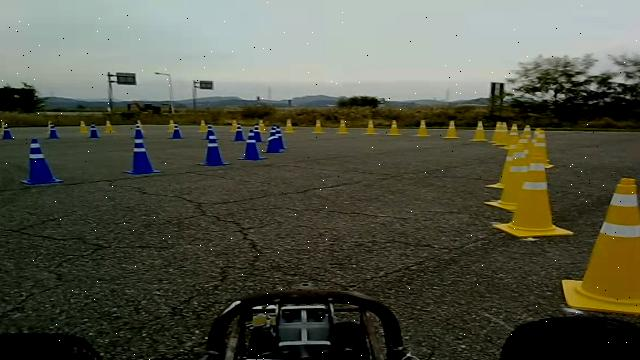blue cone: (123, 120, 162, 174), (19, 138, 63, 185), (197, 127, 230, 166), (241, 129, 263, 160), (266, 123, 284, 154)
yellow cone: (561, 176, 640, 314), (491, 141, 589, 237), (490, 135, 545, 211), (485, 150, 529, 188)
